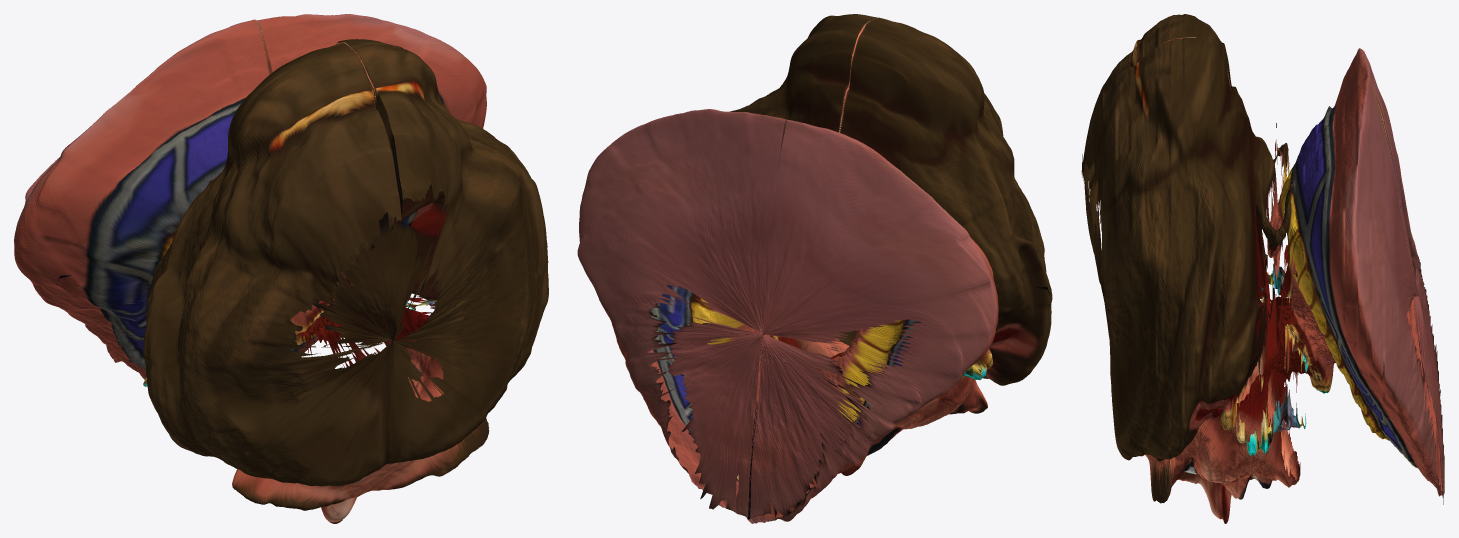
3 views of the same model, side by side, from view 1: azimuth 30°, elevation 25°; view 2: azimuth 150°, elevation 25°; view 3: azimuth 270°, elevation 25° (orthographic). The views are drawn at different scales.
Visible parts, largest first — view 1: geometry_0; view 2: geometry_0; view 3: geometry_0.
Boxes of the visible parts, x1=… form: geometry_0: x1=14, y1=14, x2=548, y2=523; geometry_0: x1=577, y1=14, x2=1052, y2=523; geometry_0: x1=1081, y1=14, x2=1444, y2=523.
Bounding box in the file's own units: 1.88 × 1.87 × 1.28.
Materials: 1 (1 with a texture image).
